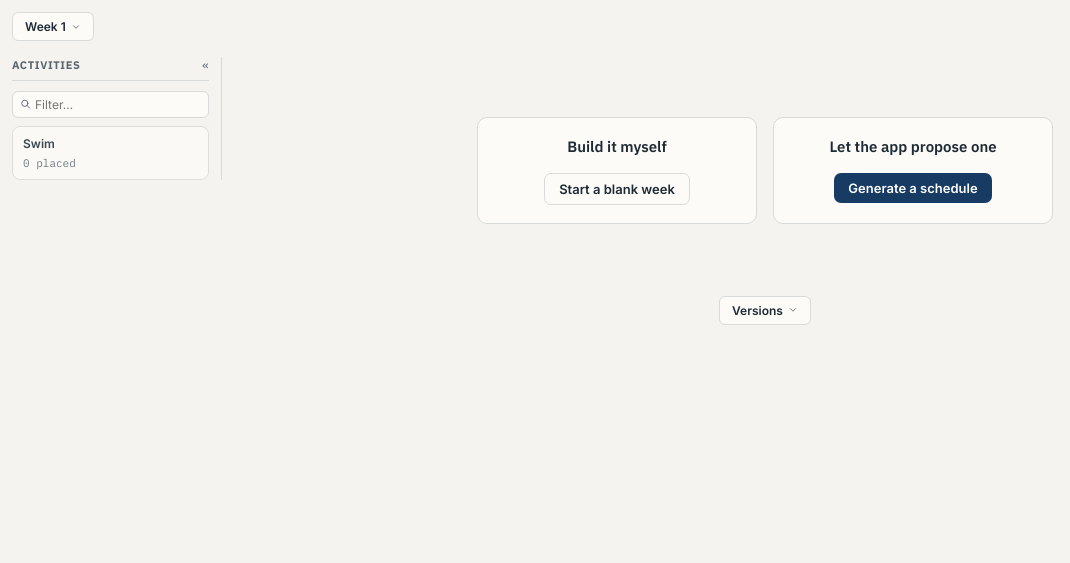
Test: empty route with saved versions (packaged audit 714d1b32 item 7) › keeps Versions reachable on the empty-state offer and opens the list
Expected: the button "Generate a schedule" is shown, [834,172,992,202]
Click the button "Versions".
click(765, 310)  # box [719,296,811,324]
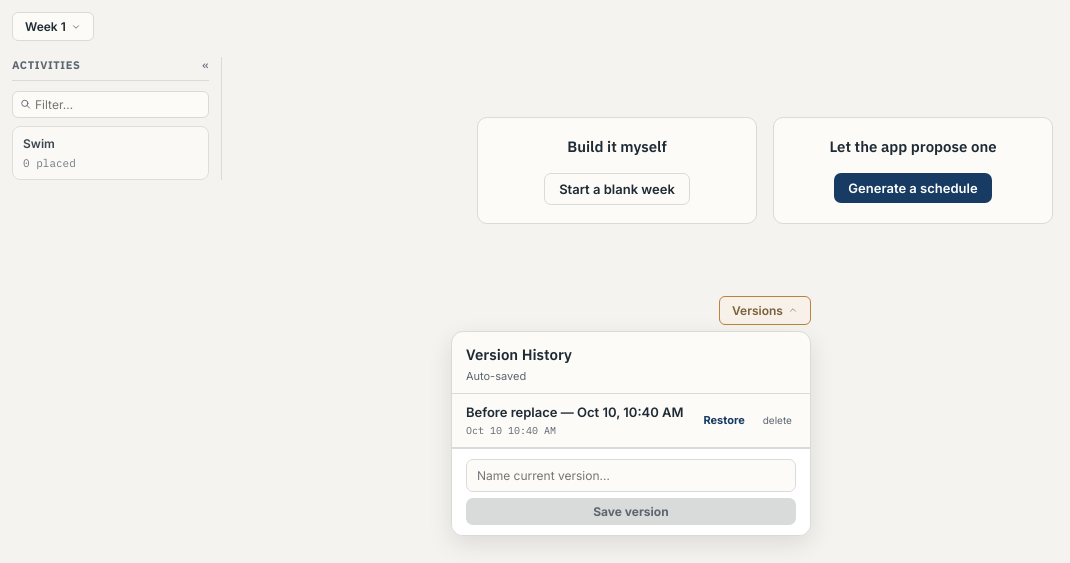
Result: the text "Before replace — Oct 10, 10:40 AM" is shown at [466,402,689,422]
